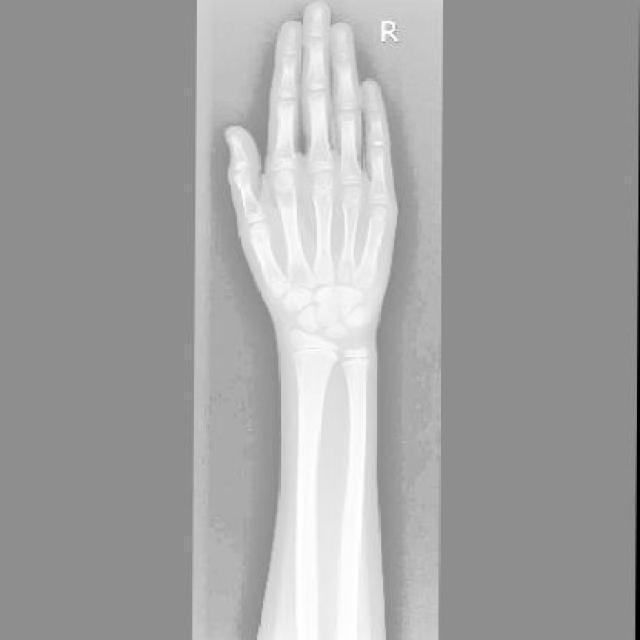Fracture: (313, 291, 336, 308)
